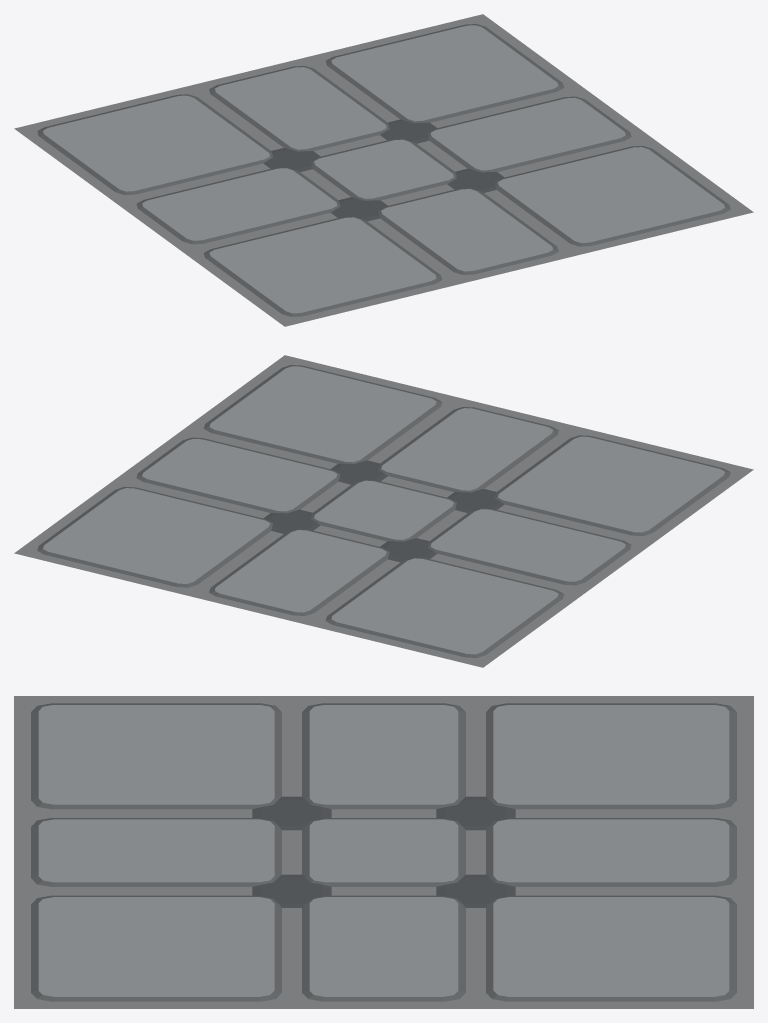
The model's file is Floor_type_B_014.glb.
3 renders of one model, top to bottom at view 1: azimuth 30°, elevation 25°; view 2: azimuth 150°, elevation 25°; view 3: azimuth 270°, elevation 25°, orthographic. The views are drawn at different scales.
Parts seen in each view (by area): view 1: Floor_type_B_014; view 2: Floor_type_B_014; view 3: Floor_type_B_014.
Part boxes in pixels (x1,y1,x2,y2): Floor_type_B_014: [14, 14, 753, 326]; Floor_type_B_014: [14, 355, 753, 667]; Floor_type_B_014: [14, 696, 753, 1008].
Bounding box in the file's own units: 4 × 0.0134 × 4.
Materials: 1 (1 with a texture image).
